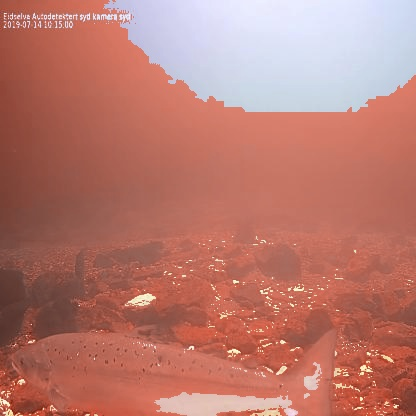salmon: (8, 321, 344, 415)
